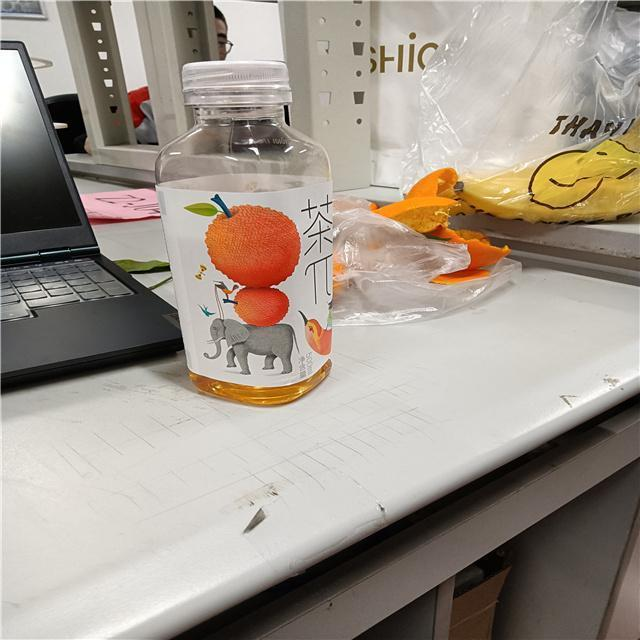orange peel: (374, 167, 464, 230)
